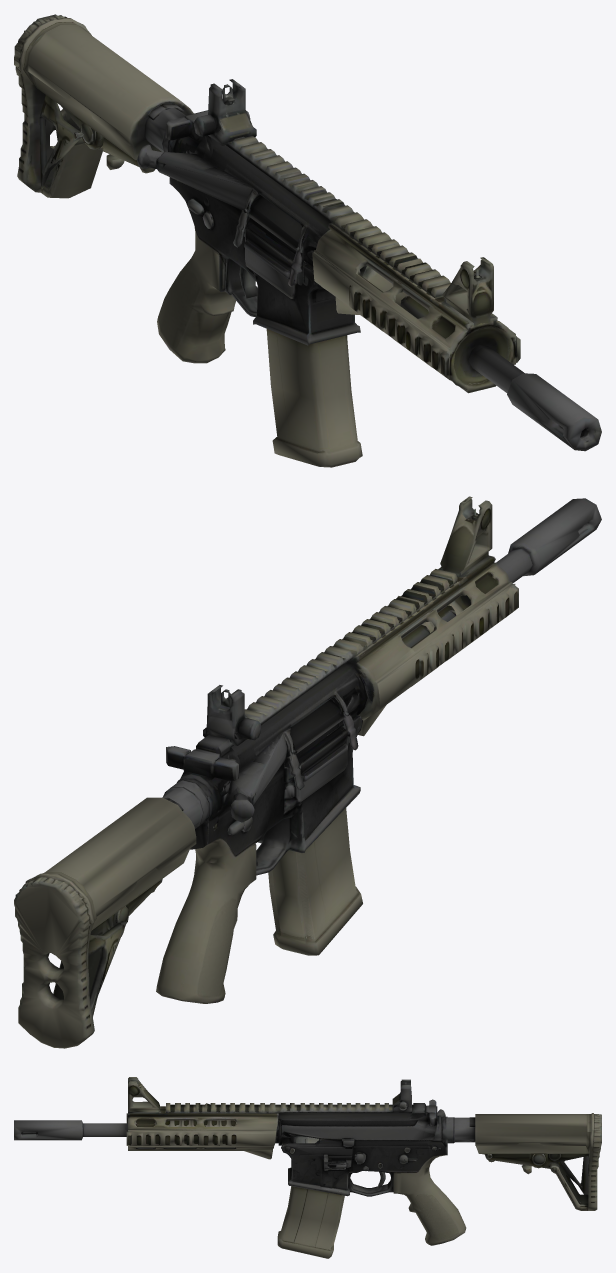
3 renders of one model, top to bottom at view 1: azimuth 30°, elevation 25°; view 2: azimuth 150°, elevation 25°; view 3: azimuth 270°, elevation 25°, orthographic. The views are drawn at different scales.
Visible parts, largest first — view 1: tripo_node_cd0296d4-a0fc-47c8-bcc9-671f7a7edbb8; view 2: tripo_node_cd0296d4-a0fc-47c8-bcc9-671f7a7edbb8; view 3: tripo_node_cd0296d4-a0fc-47c8-bcc9-671f7a7edbb8.
Boxes of the visible parts, left/top/right/bottom form: tripo_node_cd0296d4-a0fc-47c8-bcc9-671f7a7edbb8: left=14, top=14, right=601, bottom=467; tripo_node_cd0296d4-a0fc-47c8-bcc9-671f7a7edbb8: left=14, top=496, right=601, bottom=1048; tripo_node_cd0296d4-a0fc-47c8-bcc9-671f7a7edbb8: left=14, top=1077, right=601, bottom=1258.
Size of the model in its own units: 0.2698 by 0.85 by 2.6.
1 material, 1 textured.
